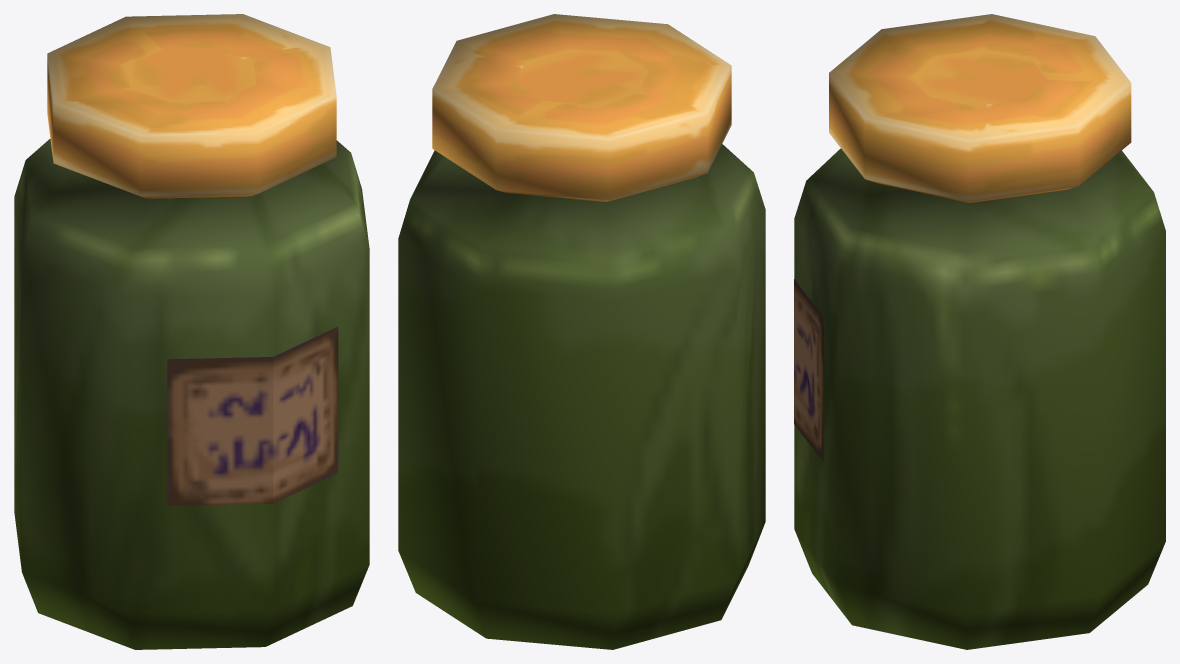
The model's file is Jar_Single4.fbx.
3 views of the same model, side by side, from view 1: azimuth 30°, elevation 25°; view 2: azimuth 150°, elevation 25°; view 3: azimuth 270°, elevation 25° (orthographic).
Parts seen in each view (by area): view 1: Jar_single4; view 2: Jar_single4; view 3: Jar_single4.
Part boxes in pixels (x1,y1,x2,y2): Jar_single4: (14, 14, 369, 649); Jar_single4: (398, 14, 765, 649); Jar_single4: (794, 14, 1165, 649).
Bounding box in the file's own units: 13.75 × 20.45 × 13.76.
Materials: 1 (1 with a texture image).
